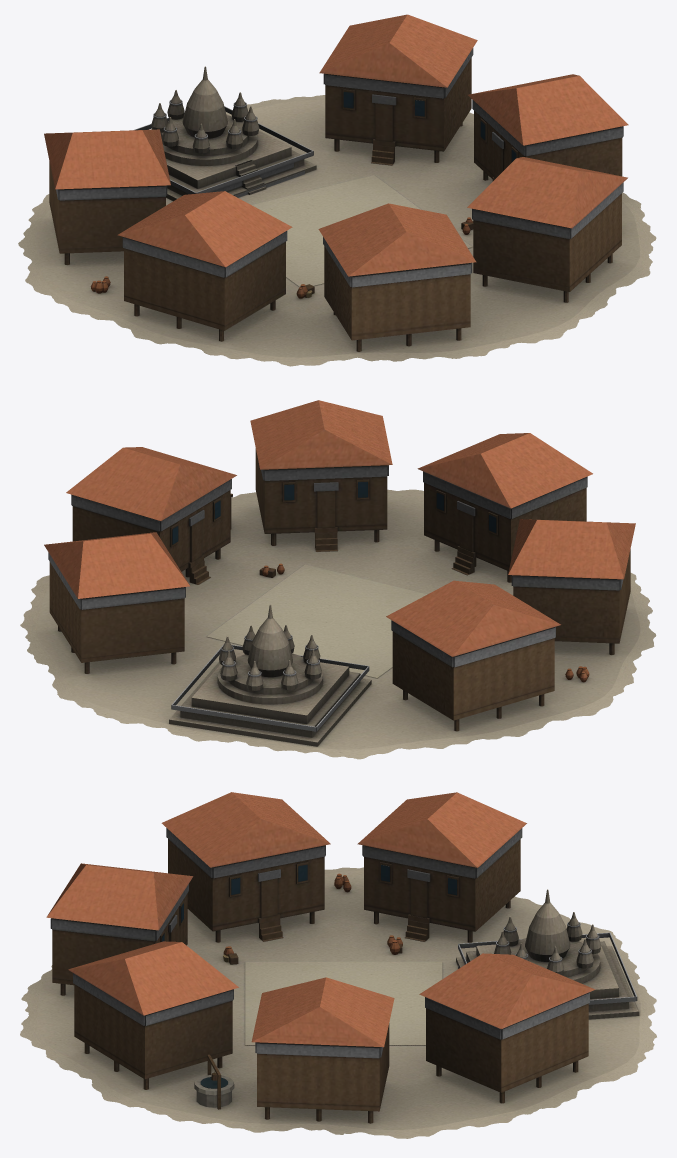
Rendered from classical-town-small-b-monsoon.glb.
3 views of the same model, one above another, from view 1: azimuth 30°, elevation 25°; view 2: azimuth 150°, elevation 25°; view 3: azimuth 270°, elevation 25° (orthographic).
Visible parts, largest first — view 1: LOD0; view 2: LOD0; view 3: LOD0.
Part boxes in pixels (x1=…): LOD0: x1=18, y1=14, x2=656, y2=366; LOD0: x1=20, y1=400, x2=656, y2=759; LOD0: x1=20, y1=792, x2=656, y2=1138.
Size of what is drawn, in the model's own units: 4.02 by 0.7657 by 3.95.
3 materials, 3 textured.
